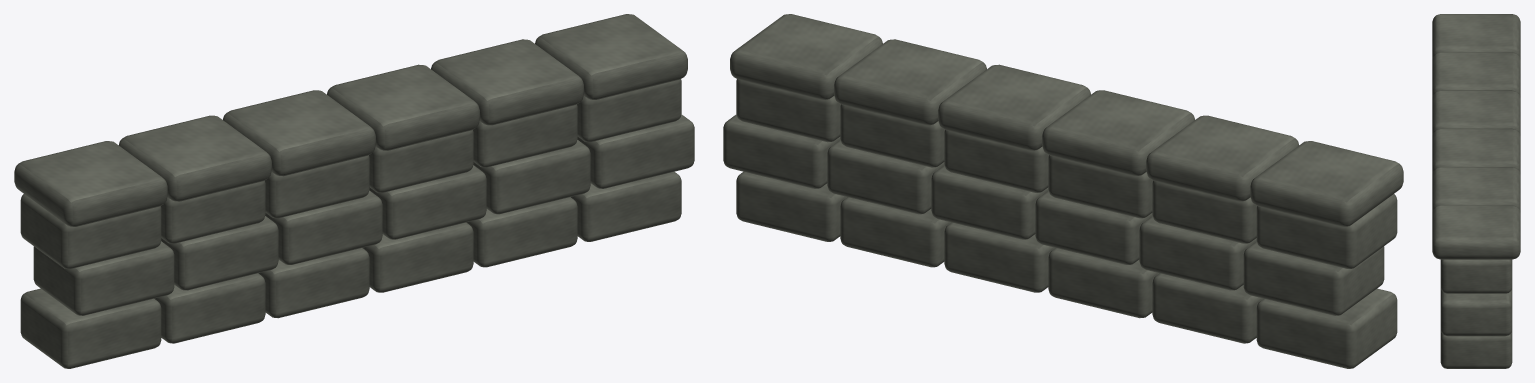
Rendered from garden_wall.glb.
The picture shows the model from 3 angles, left to right: view 1: azimuth 30°, elevation 25°; view 2: azimuth 150°, elevation 25°; view 3: azimuth 270°, elevation 25°; orthographic projection. The views are drawn at different scales.
Parts seen in each view (by area): view 1: Garden masonry.018; view 2: Garden masonry.018; view 3: Garden masonry.018.
Part boxes in pixels (x1,y1,x2,y2): Garden masonry.018: [14, 14, 694, 368]; Garden masonry.018: [723, 14, 1403, 368]; Garden masonry.018: [1432, 14, 1520, 368].
Size of the model in its own units: 2.93 by 0.77 by 0.47.
1 material, 1 textured.
